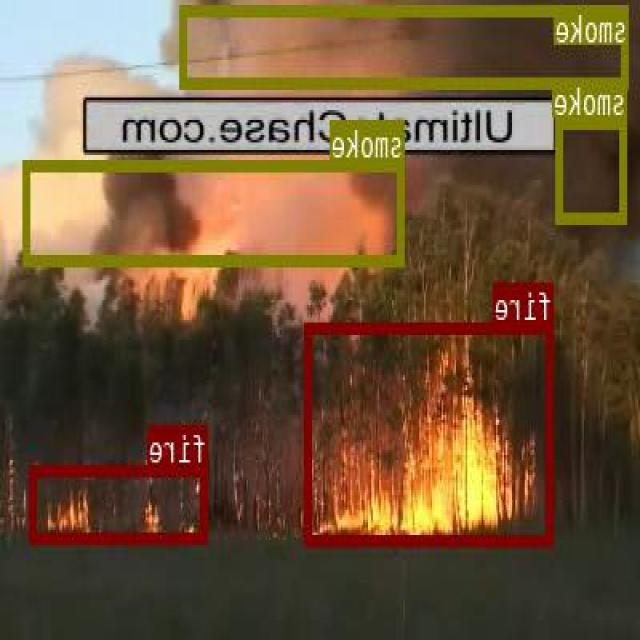fire: (307, 322, 554, 544), (32, 464, 210, 540)
smoke: (24, 158, 406, 264), (181, 5, 629, 87), (557, 117, 628, 221)
